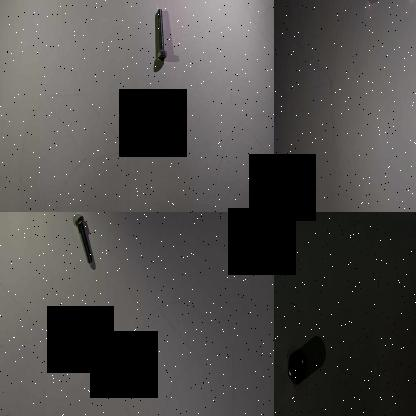Bolts: (72, 212, 98, 268), (152, 5, 172, 67)
NUTS: (288, 344, 310, 388)
